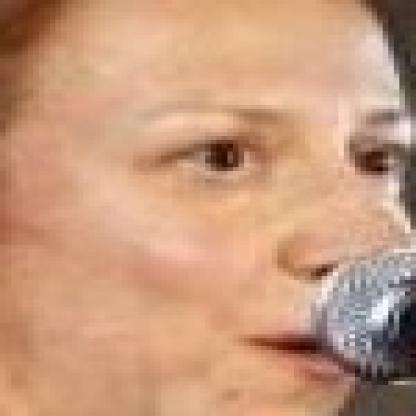male: (0, 0, 411, 413)
